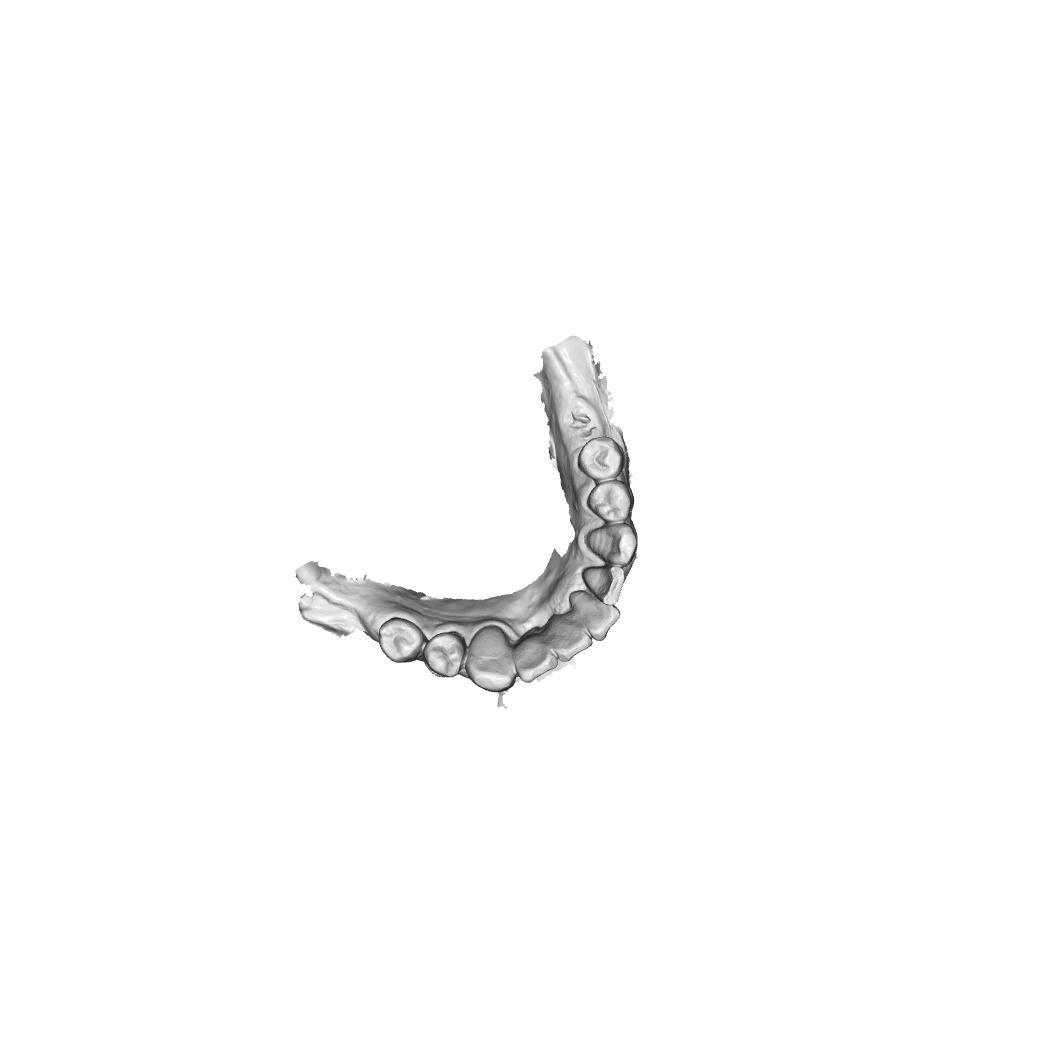canine: (465, 624, 517, 693), (584, 522, 639, 567)
incisor: (568, 590, 621, 642), (512, 633, 559, 683), (546, 613, 593, 663), (581, 565, 625, 606)
premolar: (378, 616, 424, 664), (577, 436, 626, 481), (422, 631, 467, 678), (586, 479, 635, 522)
